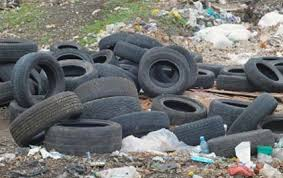tire: (7, 92, 80, 152), (43, 117, 128, 155), (15, 50, 62, 114), (135, 46, 190, 98), (43, 60, 103, 93), (153, 91, 208, 125), (246, 59, 283, 92), (216, 62, 265, 81)
